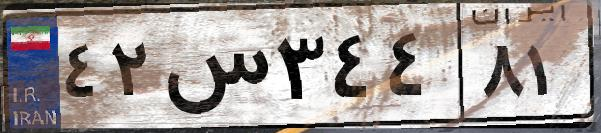1: (525, 38, 570, 115)
2: (110, 28, 158, 98)
3: (270, 28, 330, 110)
4: (385, 28, 445, 110), (330, 28, 385, 110), (57, 26, 110, 100)
8: (475, 38, 525, 113)
س: (158, 20, 270, 120)
